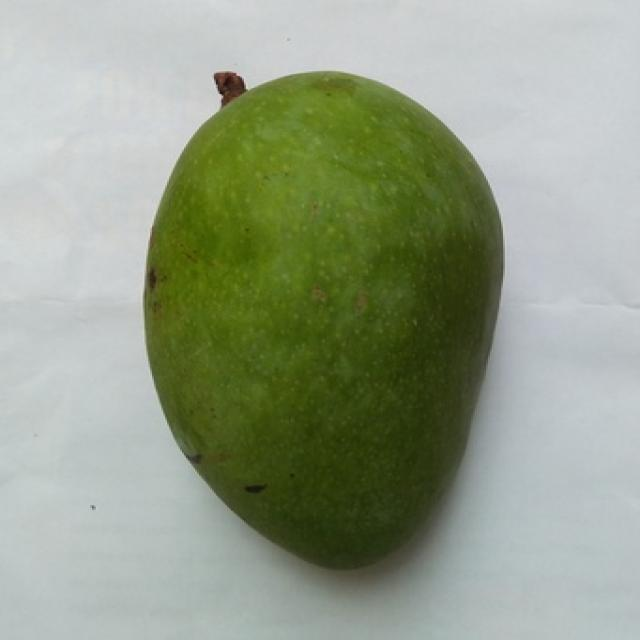Mango: (145, 73, 501, 567)
